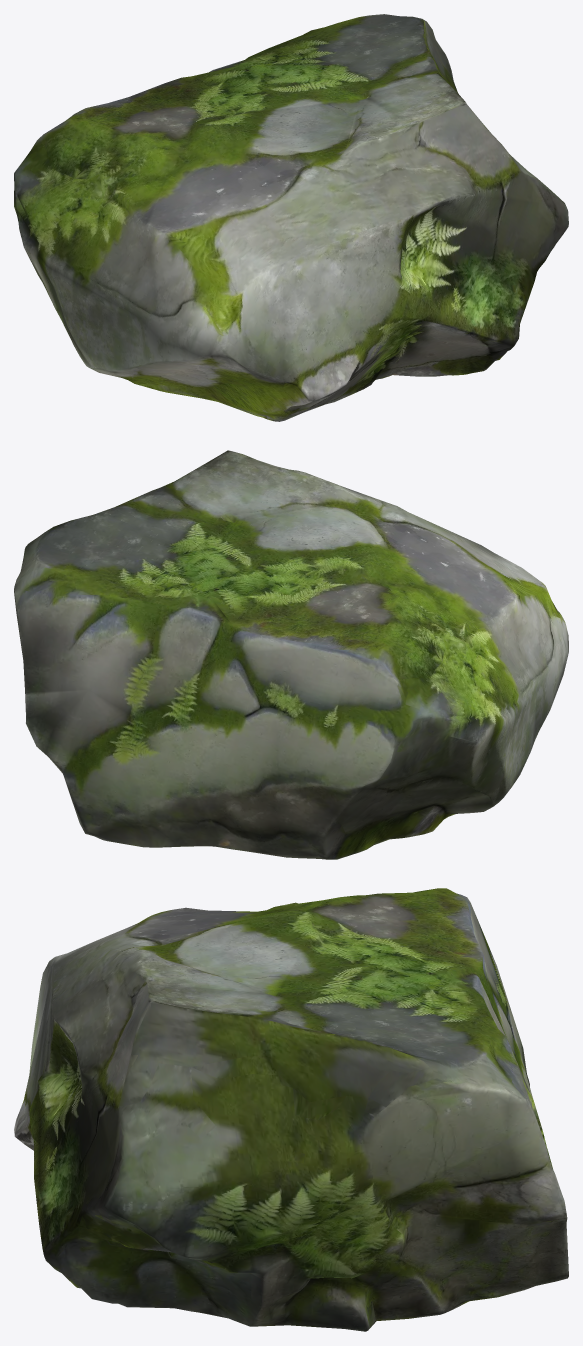
The model's file is rock_mossy_18.glb.
3 views of the same model, one above another, from view 1: azimuth 30°, elevation 25°; view 2: azimuth 150°, elevation 25°; view 3: azimuth 270°, elevation 25° (orthographic). The views are drawn at different scales.
Parts seen in each view (by area): view 1: mossy_green_rock18_LOW_RES; view 2: mossy_green_rock18_LOW_RES; view 3: mossy_green_rock18_LOW_RES.
Part boxes in pixels (x1,y1,x2,y2): mossy_green_rock18_LOW_RES: (14, 14, 568, 421); mossy_green_rock18_LOW_RES: (14, 450, 568, 859); mossy_green_rock18_LOW_RES: (14, 888, 568, 1331).
Bounding box in the file's own units: 0.9992 × 0.5834 × 0.9181.
Materials: 1 (1 with a texture image).
